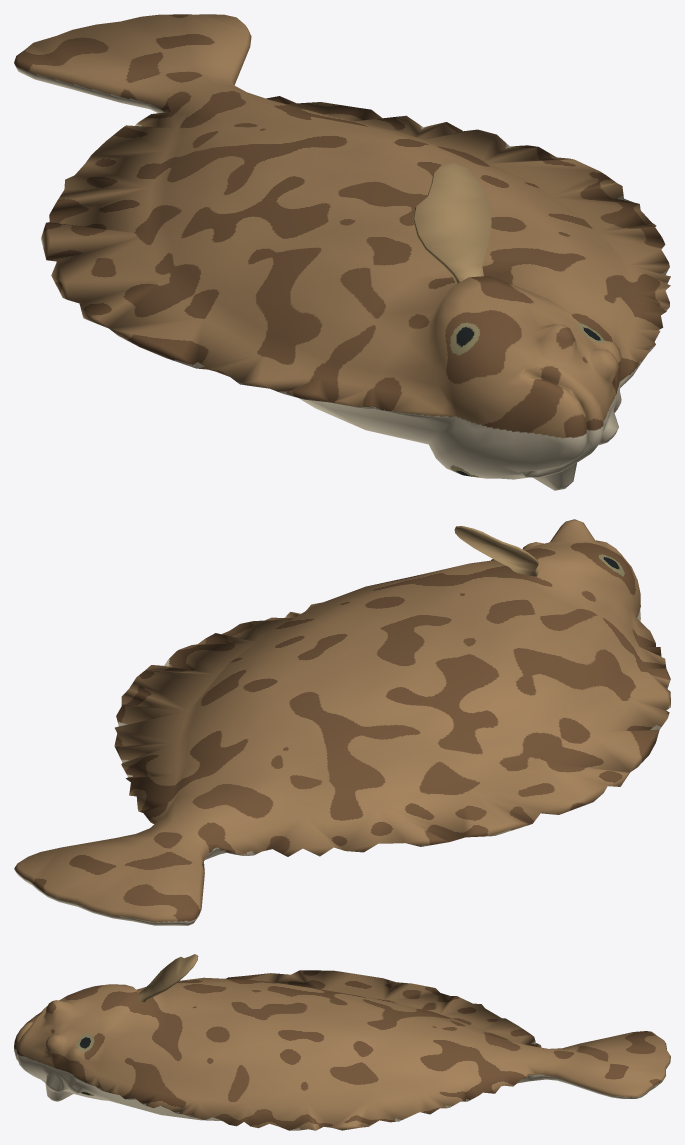
File: fish_flat.fbx
3 views of the same model, one above another, from view 1: azimuth 30°, elevation 25°; view 2: azimuth 150°, elevation 25°; view 3: azimuth 270°, elevation 25° (orthographic). The views are drawn at different scales.
Parts seen in each view (by area): view 1: fish_flat; view 2: fish_flat; view 3: fish_flat.
Part boxes in pixels (x1=…): fish_flat: x1=14, y1=14, x2=670, y2=490; fish_flat: x1=14, y1=519, x2=670, y2=925; fish_flat: x1=14, y1=954, x2=670, y2=1130.
Size of the model in its own units: 0.2006 by 0.0875 by 0.35.
Materials: 1 (1 with a texture image).
